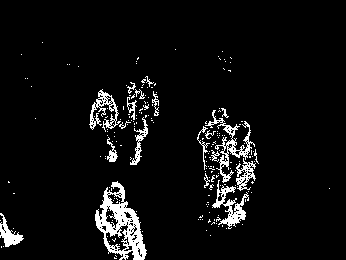person: (95, 180, 150, 260), (220, 120, 256, 227), (197, 107, 234, 192), (122, 80, 150, 165), (88, 88, 118, 163)
